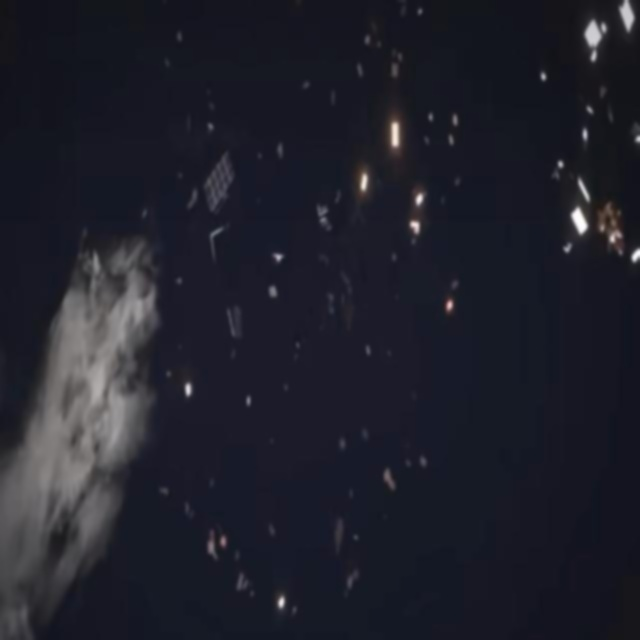large_debris: (203, 141, 237, 216), (595, 192, 629, 266), (570, 196, 591, 241), (227, 300, 244, 346), (317, 198, 334, 238), (390, 113, 400, 155), (266, 278, 279, 302), (359, 168, 369, 198), (599, 81, 607, 103)
